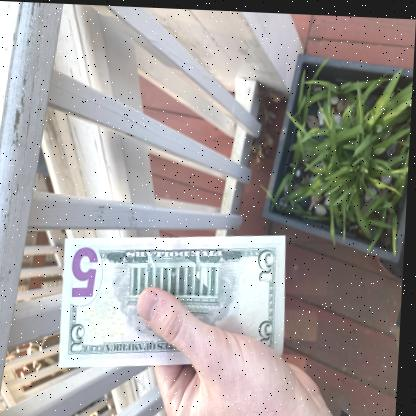five-back: (58, 232, 295, 372)
